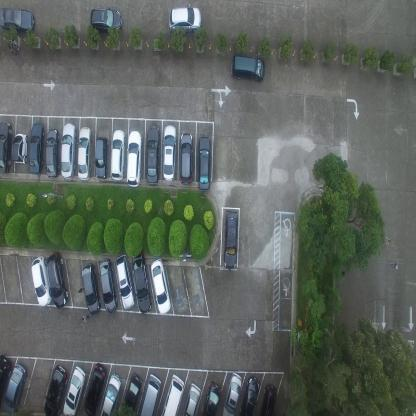car: (131, 249, 152, 315), (3, 362, 27, 416), (46, 252, 68, 309), (149, 257, 171, 314), (62, 364, 86, 416), (44, 364, 68, 415), (115, 253, 136, 311), (84, 362, 106, 415), (30, 255, 52, 307), (99, 258, 119, 314), (231, 52, 266, 83), (0, 5, 35, 35), (98, 372, 122, 415), (81, 263, 101, 314), (60, 121, 77, 179), (161, 374, 185, 415), (224, 211, 240, 272), (120, 372, 142, 416), (127, 129, 143, 188), (168, 4, 202, 31), (140, 374, 162, 415), (90, 5, 123, 32), (222, 371, 242, 415), (146, 124, 160, 186), (239, 374, 260, 415), (77, 124, 92, 181), (28, 122, 44, 175), (111, 126, 126, 181), (162, 122, 176, 180), (45, 127, 60, 178), (198, 135, 211, 192), (0, 119, 13, 173), (180, 131, 193, 184), (201, 381, 221, 415), (181, 383, 202, 415), (0, 352, 12, 406), (94, 135, 108, 180), (260, 383, 278, 415), (11, 131, 27, 164)
